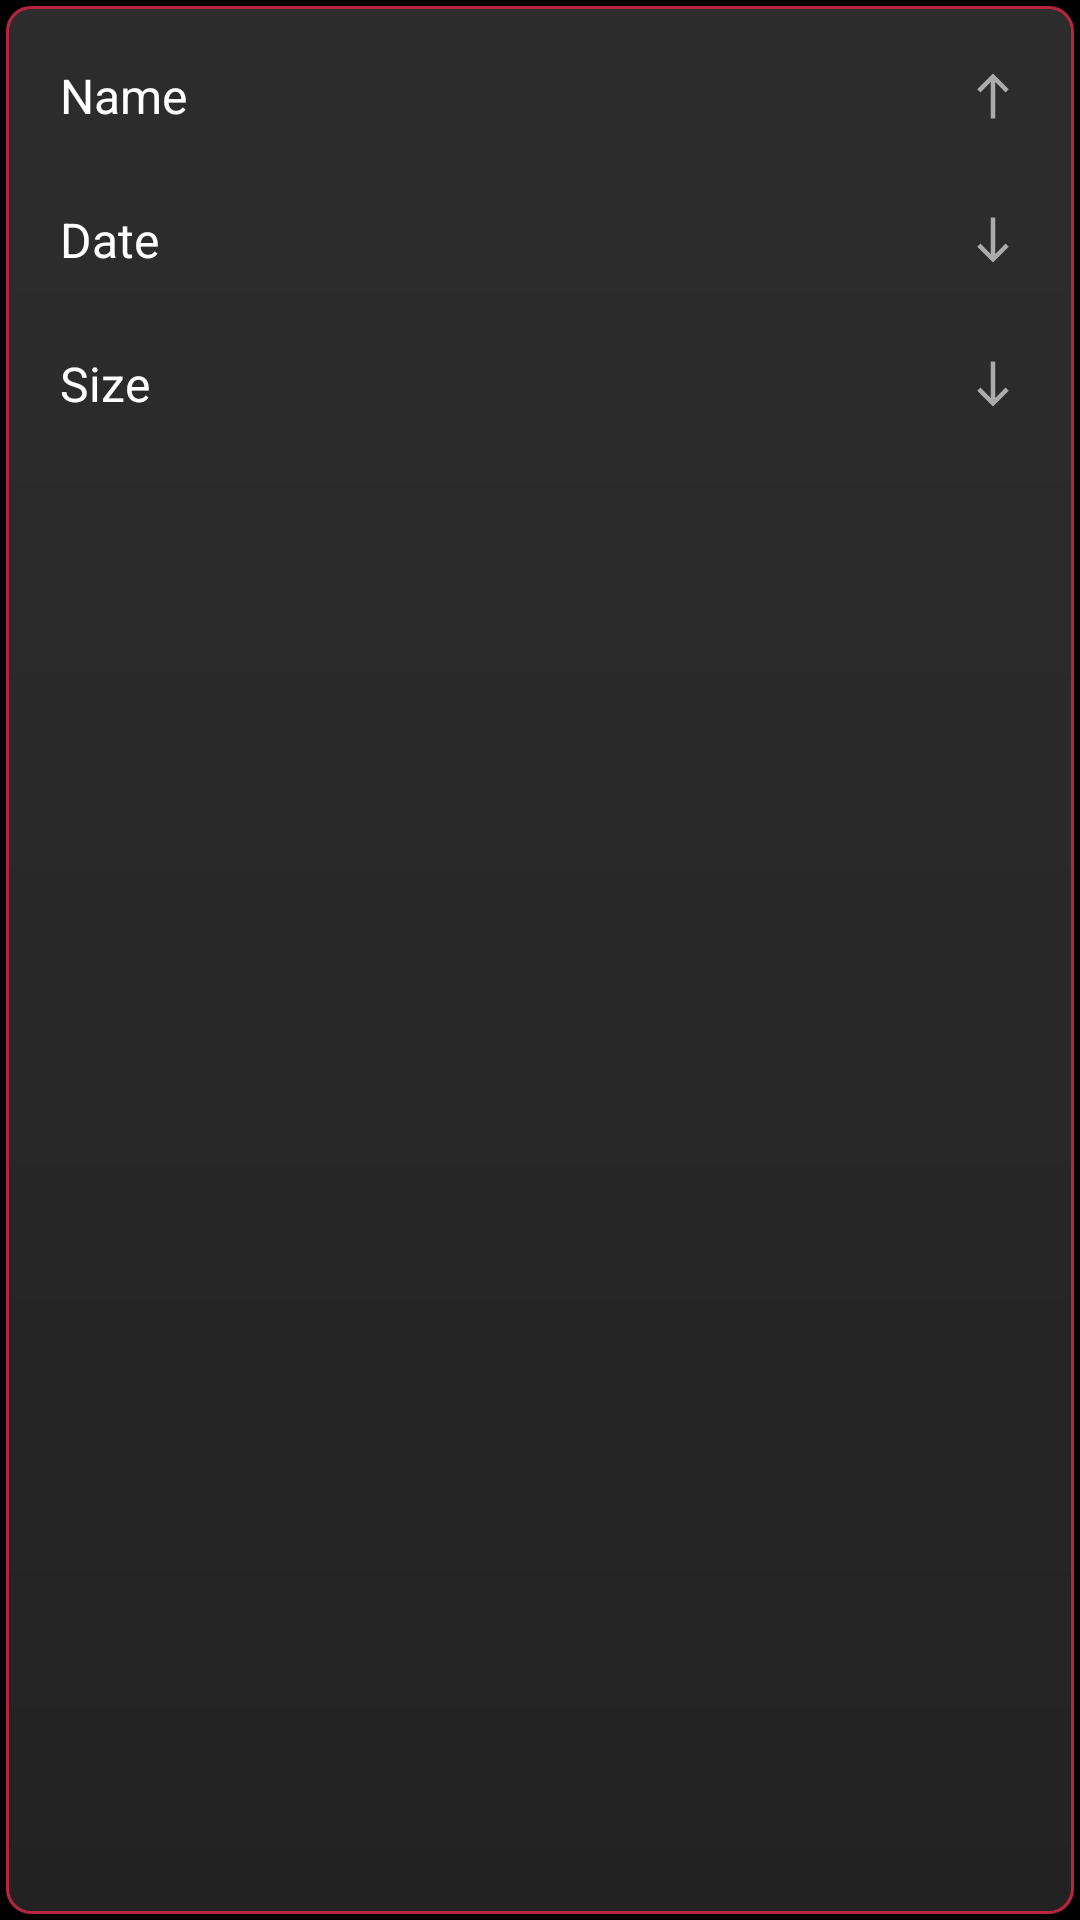

Where icons sit on this 1080 x 1920 app screen, as {"x1": x1, "y1": y1, "x2": x2, "y2": y2}:
arrow down: {"x1": 977, "y1": 217, "x2": 1009, "y2": 262}, {"x1": 977, "y1": 361, "x2": 1009, "y2": 406}
arrow up: {"x1": 977, "y1": 74, "x2": 1009, "y2": 119}
